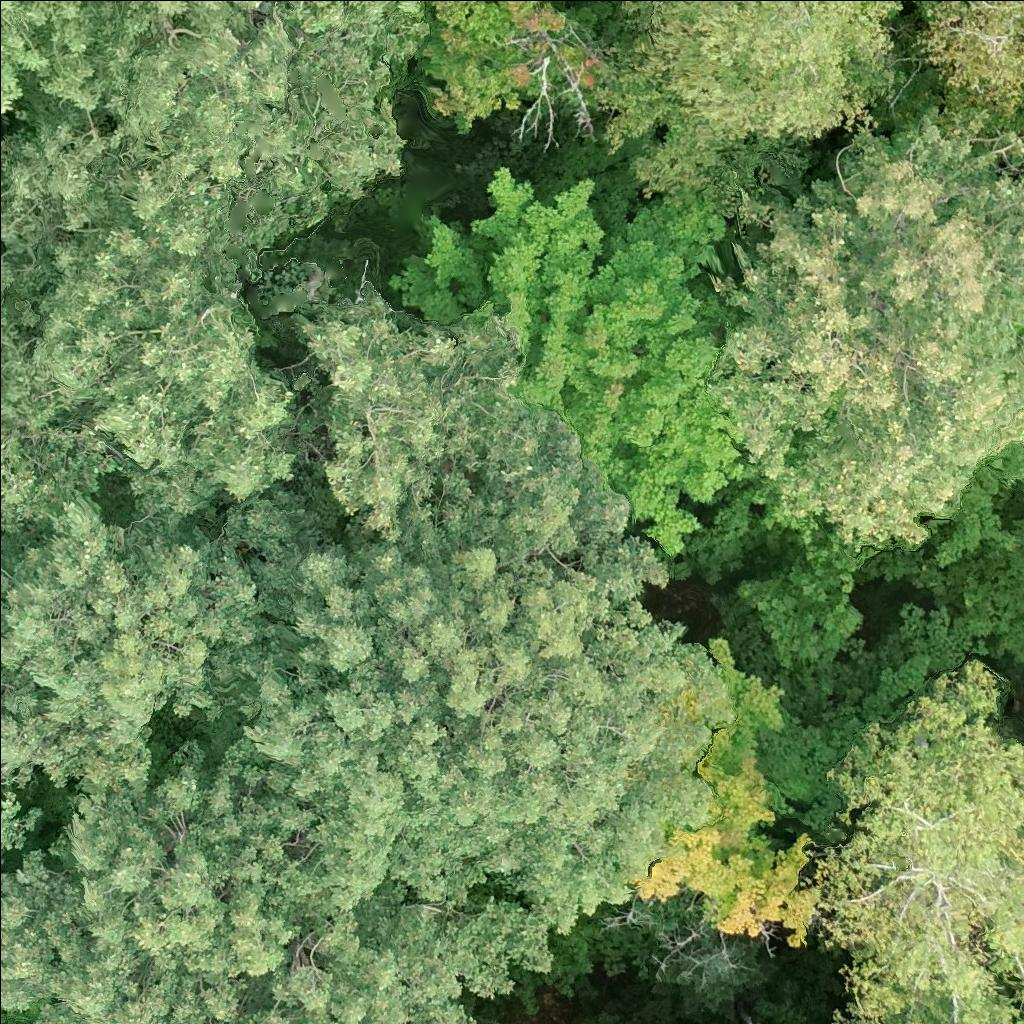crown: (212, 497, 729, 926), (0, 763, 549, 1023), (707, 115, 1023, 543), (0, 134, 338, 534), (393, 172, 737, 558), (301, 293, 662, 615), (0, 501, 263, 852), (17, 0, 431, 210), (798, 662, 1023, 1023), (623, 637, 823, 947), (648, 0, 892, 147), (0, 270, 113, 563), (385, 0, 599, 122), (735, 538, 883, 668), (925, 0, 1023, 121), (156, 0, 397, 31), (0, 0, 40, 108), (891, 0, 962, 11)
